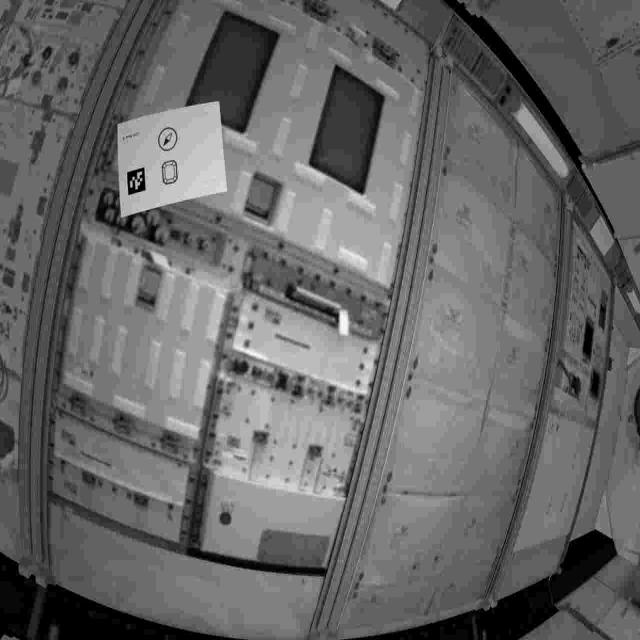compass: (158, 125, 182, 155)
emerald: (159, 157, 186, 190)
